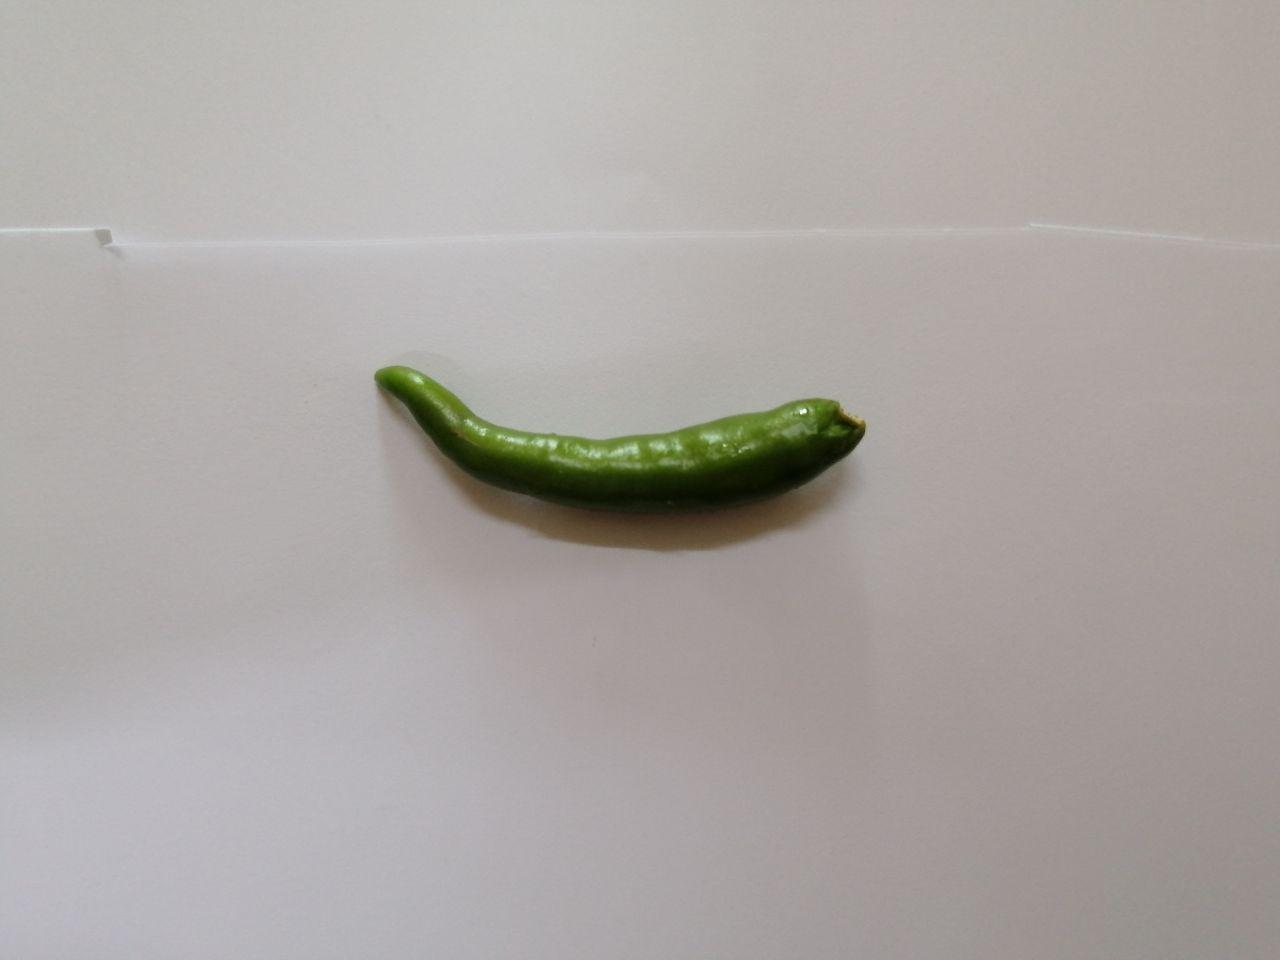lada hijau: (362, 339, 890, 552)
